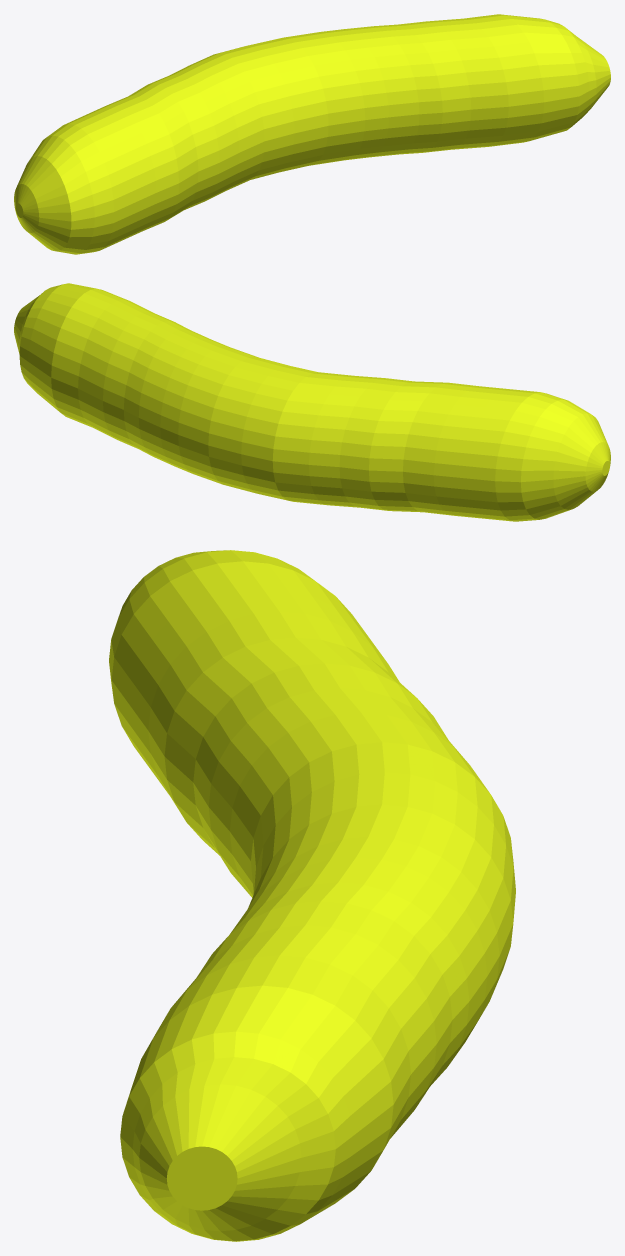
The model's file is banan.fbx.
3 views of the same model, one above another, from view 1: azimuth 30°, elevation 25°; view 2: azimuth 150°, elevation 25°; view 3: azimuth 270°, elevation 25° (orthographic). The views are drawn at different scales.
Parts seen in each view (by area): view 1: Cylinder; view 2: Cylinder; view 3: Cylinder.
Part boxes in pixels (<box>): Cylinder: <box>14,14,610,254</box>; Cylinder: <box>14,283,610,521</box>; Cylinder: <box>109,550,515,1241</box>.
Bounding box in the file's own units: 1020 × 200 × 310.
